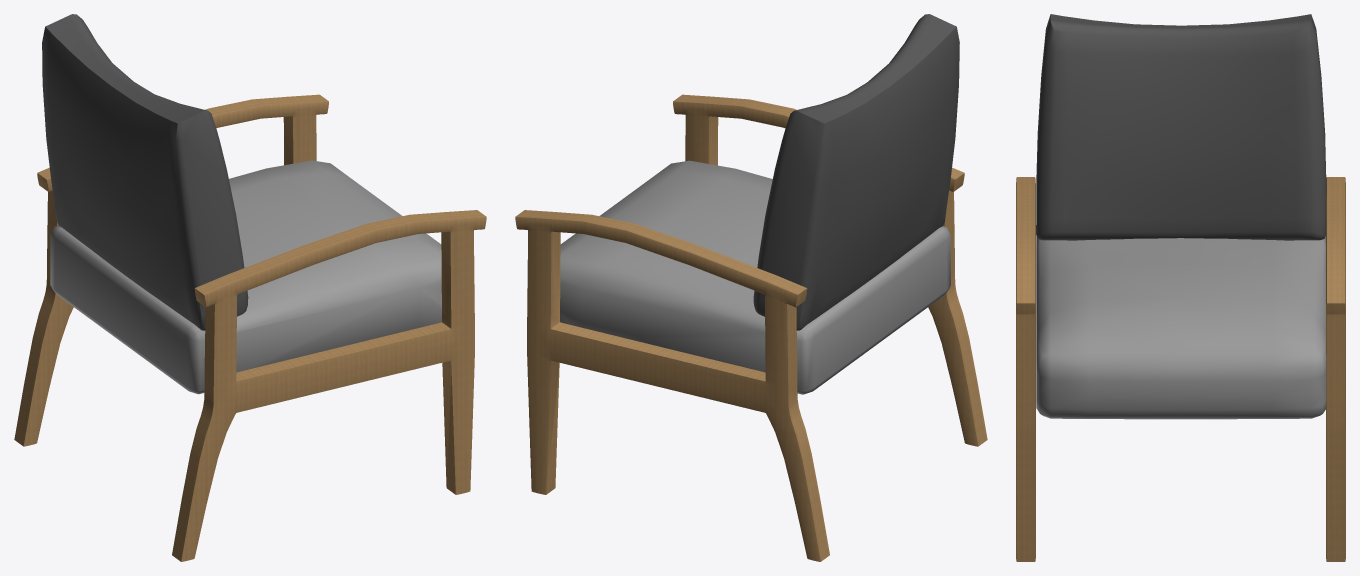
The model's file is Single Chair.fbx.
The picture shows the model from 3 angles, left to right: view 1: azimuth 30°, elevation 25°; view 2: azimuth 150°, elevation 25°; view 3: azimuth 270°, elevation 25°; orthographic projection.
Visible parts, largest first — view 1: Single_Seat; view 2: Single_Seat; view 3: Single_Seat.
Part boxes in pixels (x1,y1,x2,y2): Single_Seat: (14,14,486,561); Single_Seat: (515,14,987,561); Single_Seat: (1016,14,1345,561).
Bounding box in the file's own units: 79.45 × 104 × 73.8.
